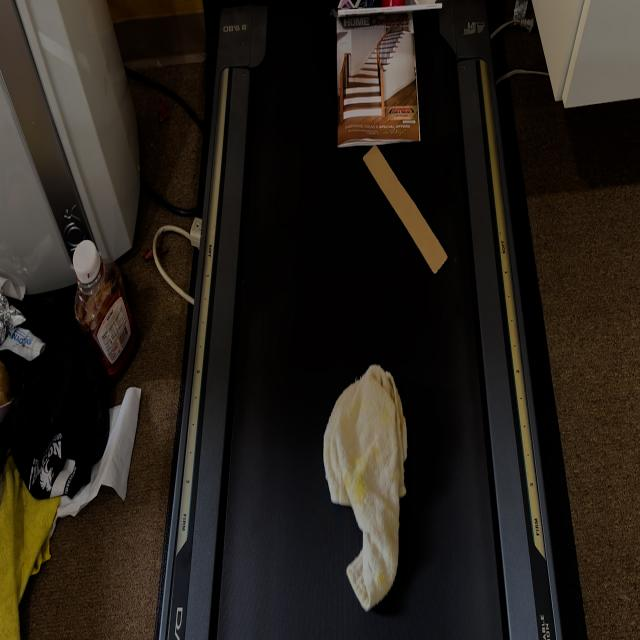Recycle: (361, 148, 454, 288), (340, 0, 425, 136)
Trash: (323, 356, 409, 608)
